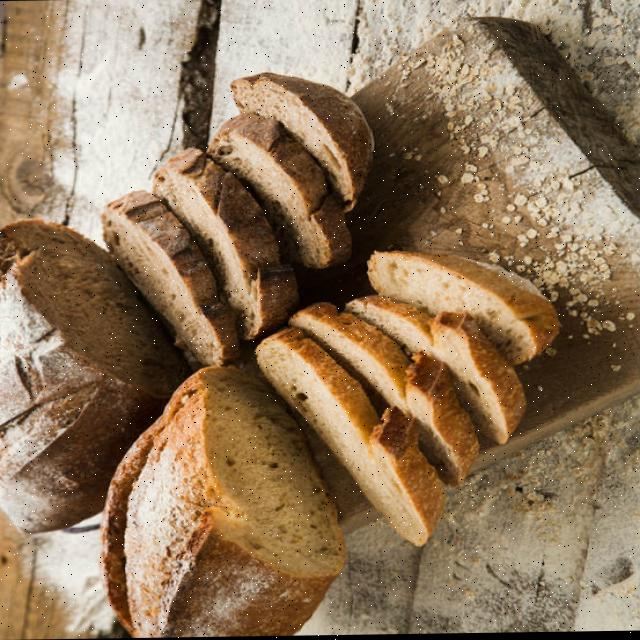Bread: (101, 366, 345, 638), (257, 328, 444, 546), (289, 302, 478, 487), (154, 148, 298, 338), (345, 296, 525, 444), (101, 190, 240, 366), (208, 113, 351, 269), (368, 252, 559, 365), (231, 73, 373, 212)
